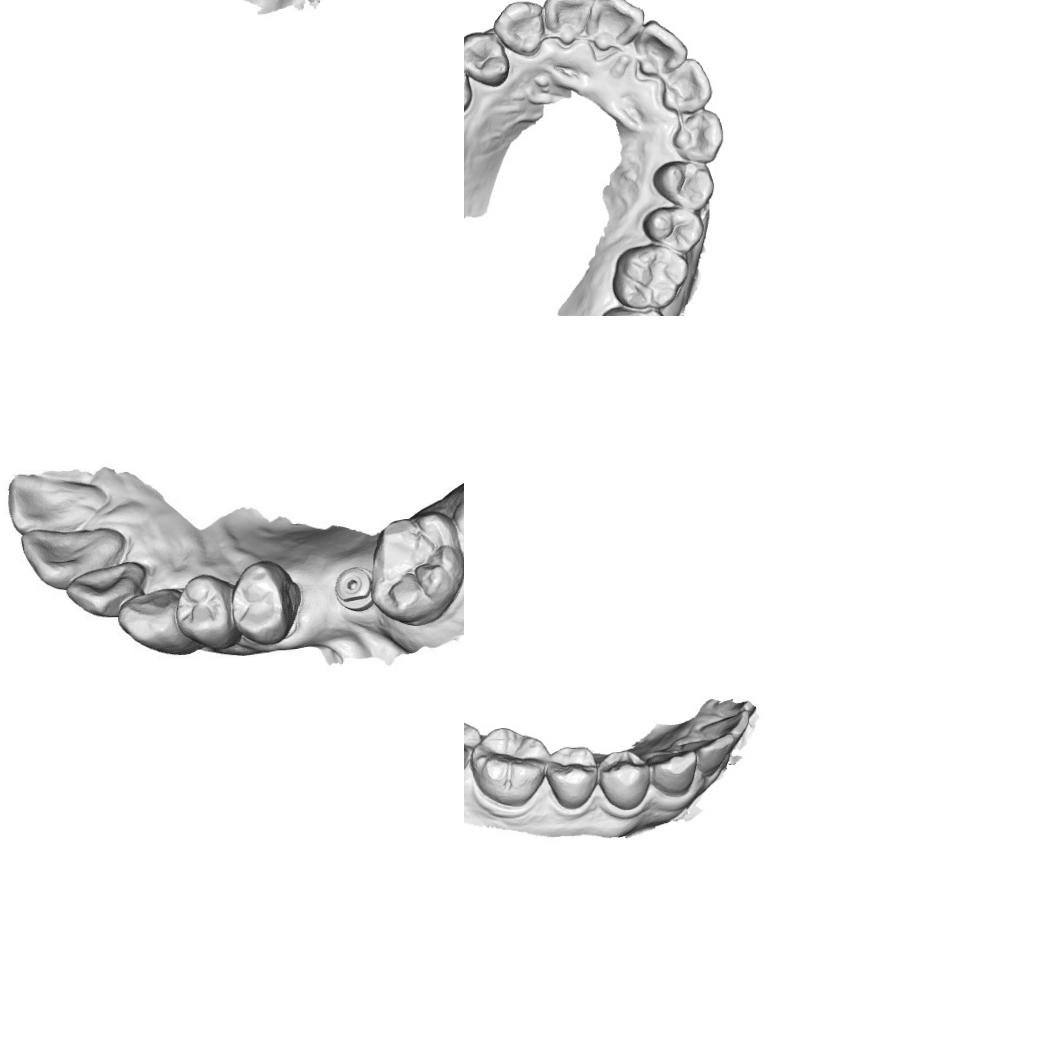canine: (119, 586, 194, 654), (670, 107, 726, 164), (490, 0, 545, 58), (644, 744, 698, 797)
implant: (325, 558, 372, 614)
incisor: (23, 520, 130, 592), (5, 467, 106, 540), (64, 562, 148, 618), (584, 0, 646, 60), (632, 17, 690, 79), (658, 57, 714, 115), (541, 0, 594, 47), (694, 730, 736, 778), (698, 708, 752, 743)
molar: (372, 515, 464, 623), (470, 724, 548, 809), (610, 242, 690, 310), (464, 705, 483, 780)
premolar: (177, 572, 242, 648), (234, 564, 296, 642), (543, 745, 600, 811), (596, 747, 653, 812), (650, 158, 716, 212), (642, 205, 706, 254), (464, 29, 511, 88)
